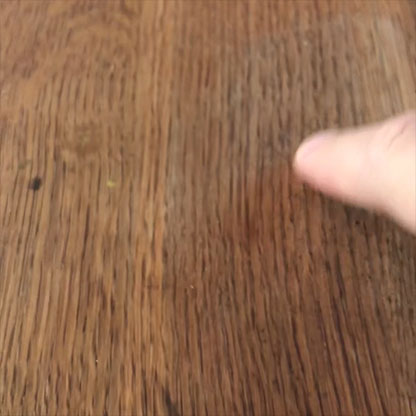fingertip: (271, 110, 351, 211)
